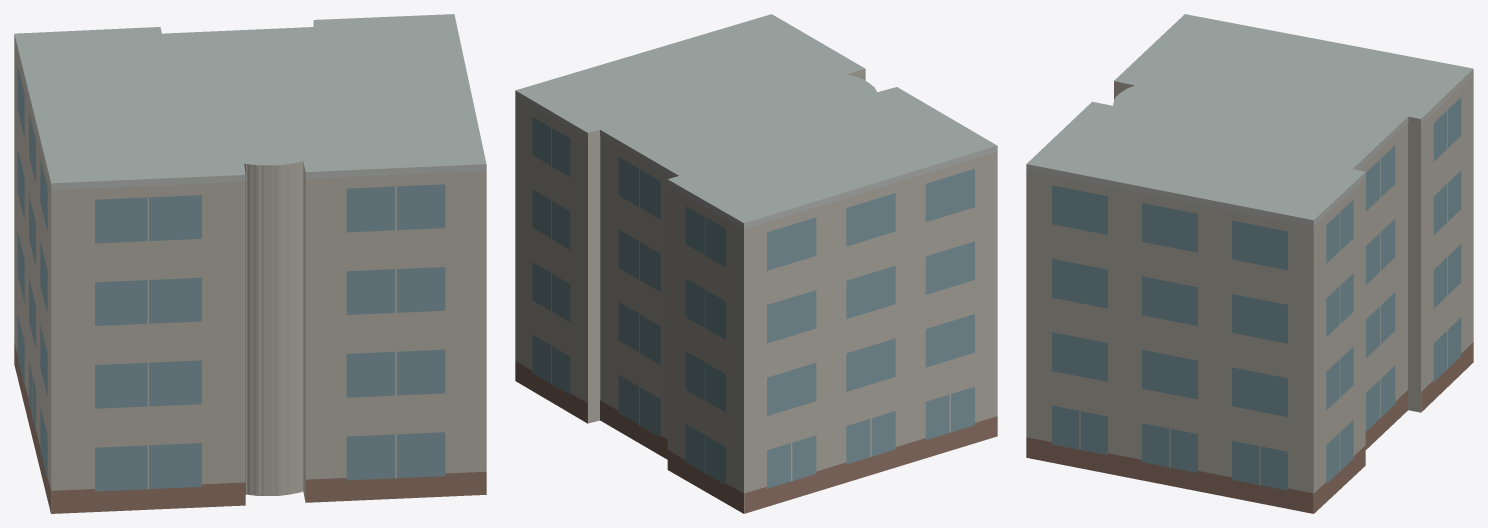
File: survey-upis-32959340.glb
3 renders of one model, left to right at view 1: azimuth 30°, elevation 25°; view 2: azimuth 150°, elevation 25°; view 3: azimuth 270°, elevation 25°, orthographic. The views are drawn at different scales.
Visible parts, largest first — view 1: survey-upis-32959340.tmp; view 2: survey-upis-32959340.tmp; view 3: survey-upis-32959340.tmp.
Part boxes in pixels (<box>): survey-upis-32959340.tmp: <box>14,14,486,513</box>; survey-upis-32959340.tmp: <box>515,14,997,513</box>; survey-upis-32959340.tmp: <box>1026,14,1473,513</box>.
Bounding box in the file's own units: 17.64 × 11.7 × 16.16.
